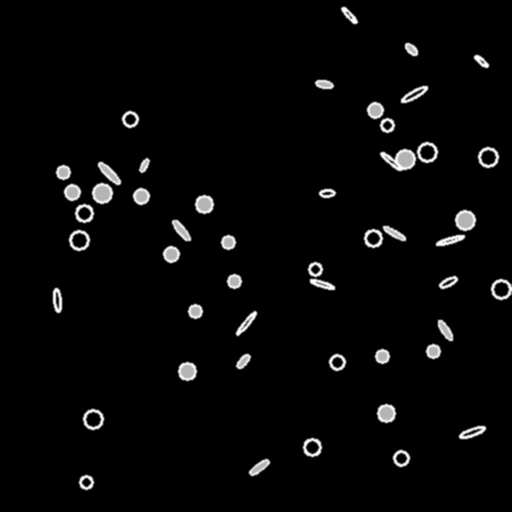pseudomonas: (96, 160, 122, 186), (235, 310, 257, 336), (400, 84, 428, 104), (379, 151, 403, 171), (458, 424, 486, 440), (171, 219, 191, 241), (382, 224, 406, 242), (436, 319, 454, 341), (248, 458, 270, 476), (435, 234, 465, 246), (340, 6, 358, 24), (309, 278, 335, 290), (438, 275, 458, 289), (235, 353, 251, 369), (403, 42, 419, 56), (473, 54, 489, 68), (53, 288, 61, 312), (138, 157, 150, 173), (315, 79, 333, 89), (319, 189, 335, 197)
synechocystis: (479, 148, 497, 166), (396, 150, 414, 168), (93, 184, 111, 202), (84, 410, 102, 428), (492, 280, 510, 298), (70, 231, 88, 249), (456, 211, 474, 229), (418, 143, 436, 161), (179, 363, 195, 379), (304, 439, 320, 455), (76, 205, 92, 221), (196, 196, 212, 212), (365, 230, 381, 246), (378, 405, 394, 421), (394, 451, 408, 465), (368, 103, 382, 117), (164, 247, 178, 261), (123, 112, 137, 126), (65, 185, 79, 199), (330, 355, 344, 369), (134, 189, 148, 203), (427, 345, 439, 357), (376, 350, 388, 362), (309, 263, 321, 275), (189, 305, 201, 317), (381, 119, 393, 131), (57, 166, 69, 178), (80, 476, 92, 488), (228, 275, 240, 287), (222, 236, 234, 248)
